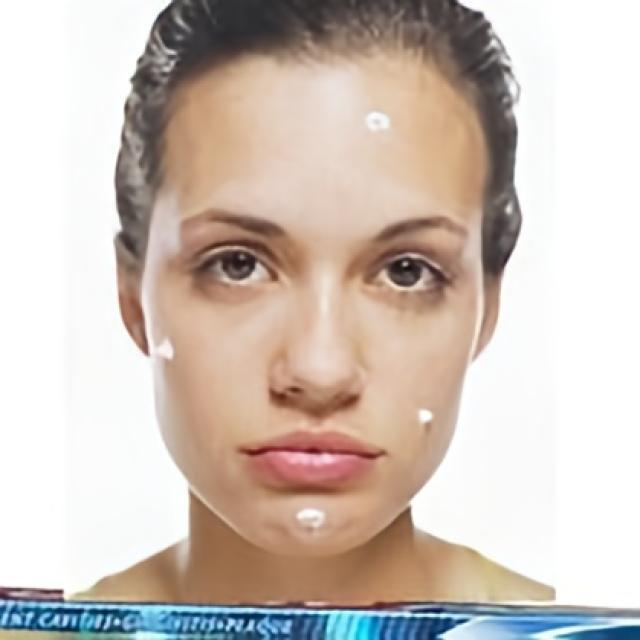neutral: (141, 30, 488, 562)
